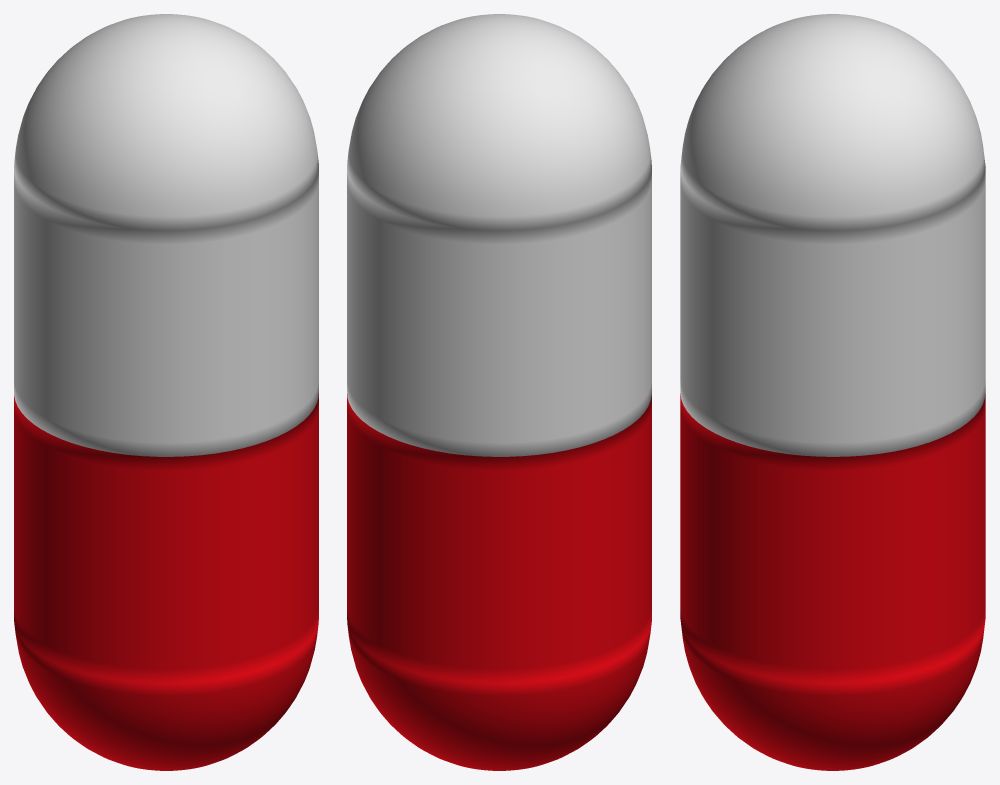
File: standard_pill.fbx
3 views of the same model, side by side, from view 1: azimuth 30°, elevation 25°; view 2: azimuth 150°, elevation 25°; view 3: azimuth 270°, elevation 25° (orthographic).
Visible parts, largest first — view 1: standardPill.001; view 2: standardPill.001; view 3: standardPill.001.
Boxes of the visible parts, box(x1,y1,x2,y2) form: standardPill.001: box(14, 14, 318, 770); standardPill.001: box(347, 14, 651, 770); standardPill.001: box(680, 14, 985, 770).
Bounding box in the file's own units: 199 × 525 × 199.
